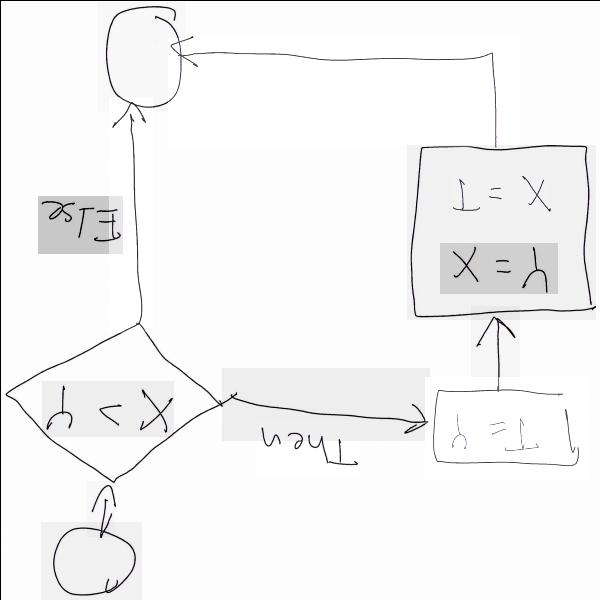arrow: (167, 37, 518, 146), (221, 367, 429, 440), (108, 96, 152, 332), (470, 305, 519, 391), (86, 480, 114, 536)
process: (406, 144, 595, 319), (424, 376, 588, 480)
terminator: (96, 1, 184, 111), (40, 521, 141, 600)
text: (41, 380, 173, 436), (439, 242, 557, 293), (255, 420, 359, 474), (36, 195, 122, 253), (446, 406, 544, 454), (450, 169, 548, 216)
